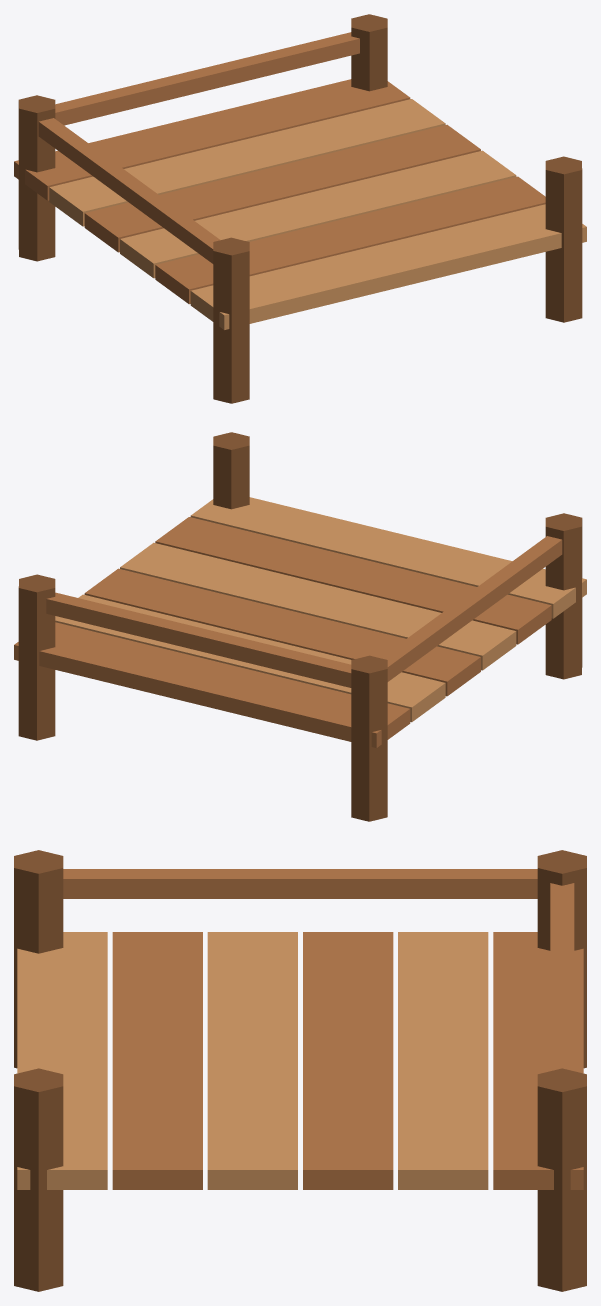
The model's file is building-platform.glb.
3 views of the same model, one above another, from view 1: azimuth 30°, elevation 25°; view 2: azimuth 150°, elevation 25°; view 3: azimuth 270°, elevation 25° (orthographic). The views are drawn at different scales.
Parts seen in each view (by area): view 1: building-platform; view 2: building-platform; view 3: building-platform.
Part boxes in pixels (x1,y1,x2,y2): building-platform: [14, 14, 586, 403]; building-platform: [14, 432, 586, 821]; building-platform: [14, 850, 586, 1291].
Size of the model in its own units: 1.3 by 0.5 by 1.3.
1 material, 1 textured.
